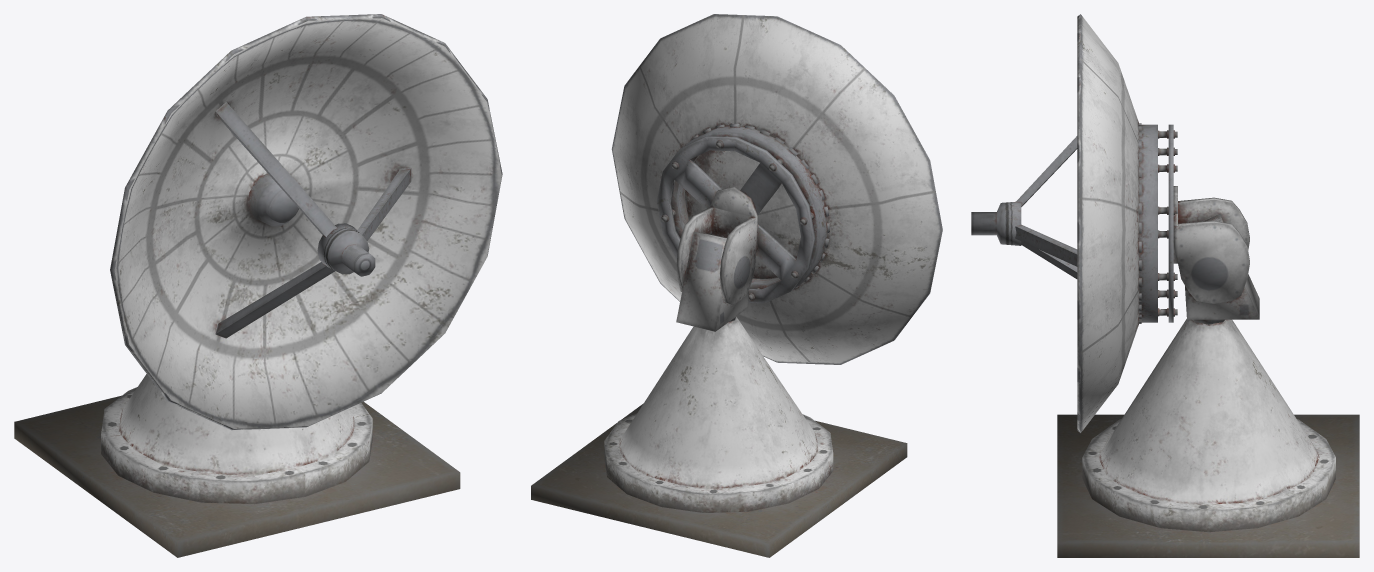
File: 雷达站.glb
3 renders of one model, left to right at view 1: azimuth 30°, elevation 25°; view 2: azimuth 150°, elevation 25°; view 3: azimuth 270°, elevation 25°, orthographic. The views are drawn at different scales.
Visible parts, largest first — view 1: Radar; view 2: Radar; view 3: Radar.
Boxes of the visible parts, x1,y1,x2,y2 form: Radar: (14, 14, 502, 557); Radar: (531, 14, 942, 557); Radar: (971, 14, 1359, 557).
Bounding box in the file's own units: 1.65 × 2 × 1.53.
Materials: 1 (1 with a texture image).
